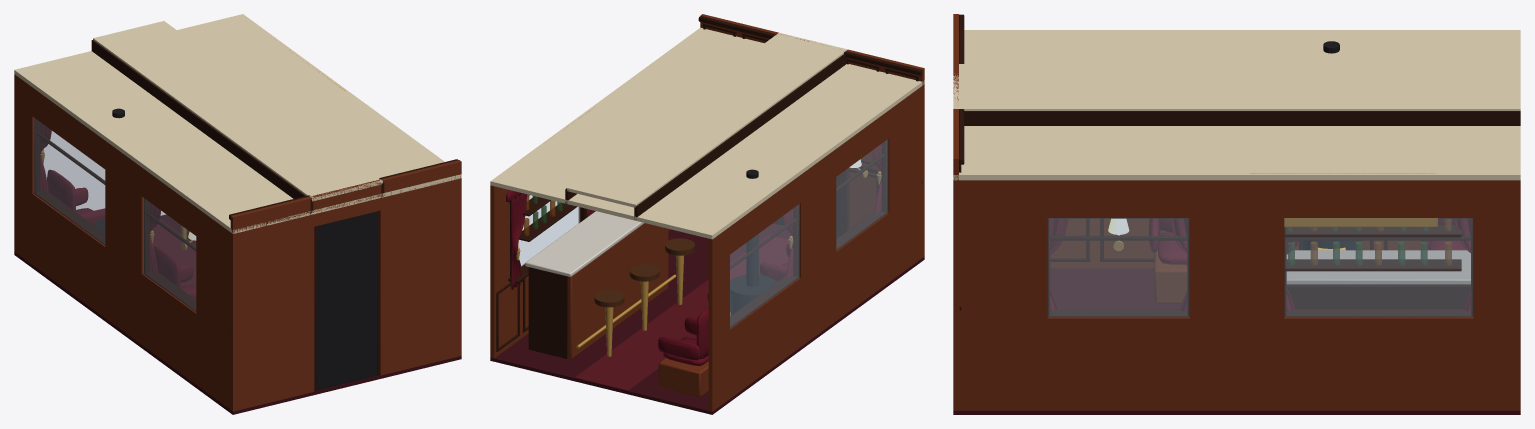
File: dining_end.glb
3 renders of one model, left to right at view 1: azimuth 30°, elevation 25°; view 2: azimuth 150°, elevation 25°; view 3: azimuth 270°, elevation 25°, orthographic. The views are drawn at different scales.
Visible parts, largest first — view 1: dining_end, dining_end_glass; view 2: dining_end, dining_end_glass; view 3: dining_end, dining_end_glass.
Boxes of the visible parts, x1,y1,x2,y2 form: dining_end: (14, 14, 461, 414); dining_end_glass: (34, 118, 195, 311); dining_end: (490, 14, 924, 414); dining_end_glass: (518, 139, 887, 328); dining_end: (953, 14, 1520, 414); dining_end_glass: (1048, 218, 1472, 317).
Bounding box in the file's own units: 2.9 × 2.39 × 4.8.
